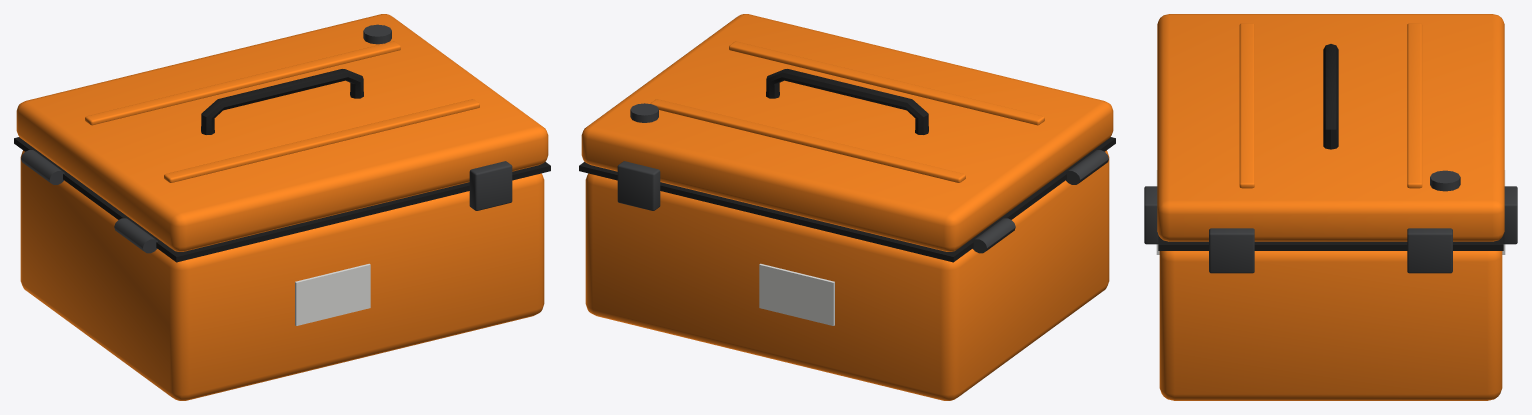
File: payload_box.glb
3 views of the same model, side by side, from view 1: azimuth 30°, elevation 25°; view 2: azimuth 150°, elevation 25°; view 3: azimuth 270°, elevation 25° (orthographic). The views are drawn at different scales.
Visible parts, largest first — view 1: payload_box; view 2: payload_box; view 3: payload_box.
Boxes of the visible parts, bbox=[...] form: payload_box: bbox=[14, 14, 550, 400]; payload_box: bbox=[579, 14, 1115, 400]; payload_box: bbox=[1144, 14, 1517, 400].
Size of the model in its own units: 0.7716 by 0.405 by 0.588.
